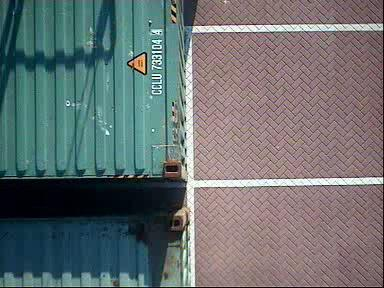groundmarker_2: (167, 1, 218, 67)
